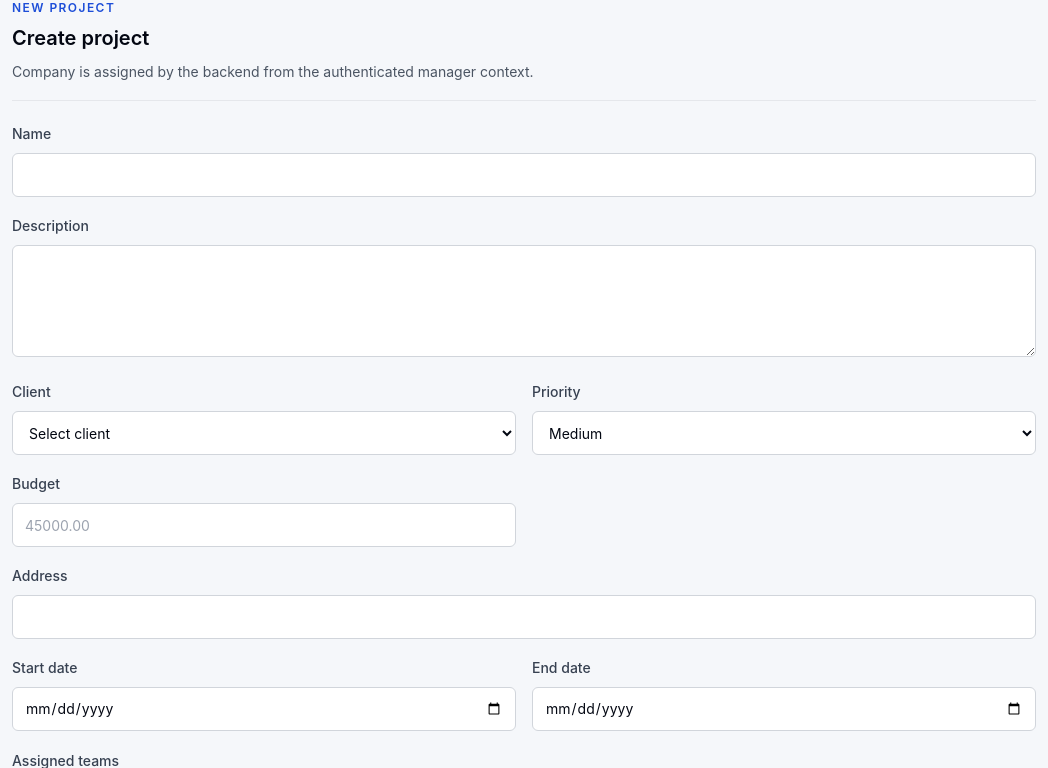
Scenario: ProjectForm › validates end date against start date according to current behavior
Step 1. Type "Lakeview" into the field labelled "Name" → (524, 175), box [12, 153, 1036, 197]
Step 2. Type "Kitchen work" into the text box labelled "Description" → (524, 301), box [12, 245, 1036, 357]
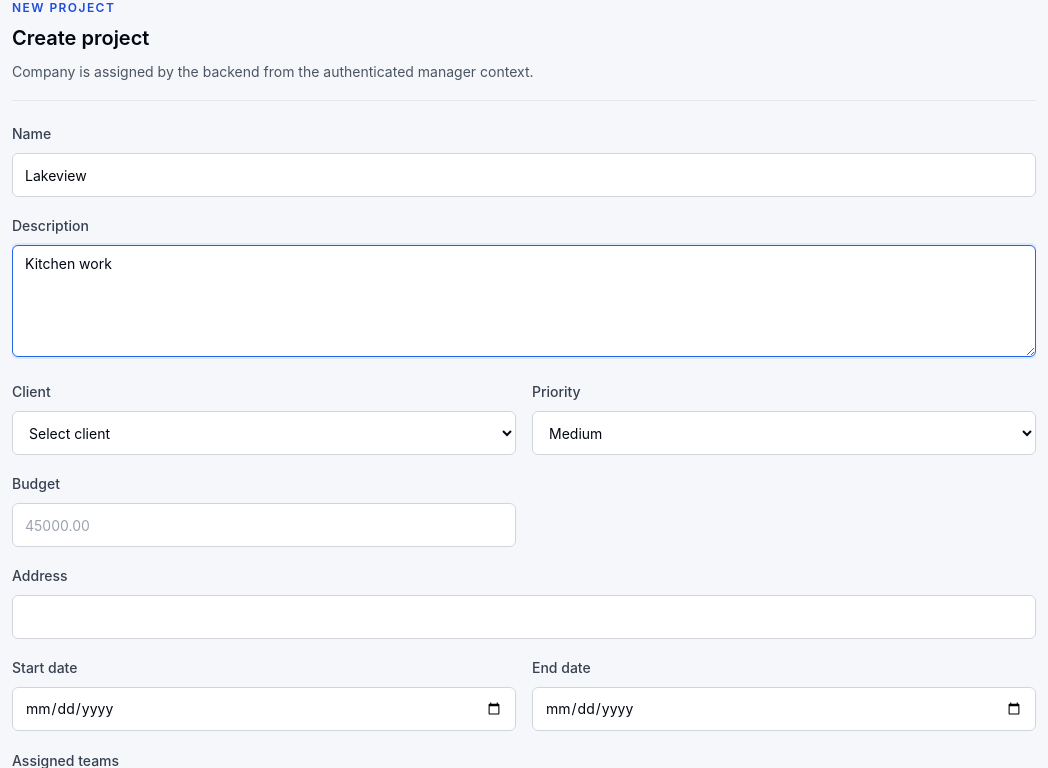
Step 3. Select "client_one #100" in the dropdown labelled "Client" → (264, 433), box [12, 411, 516, 455]
(page scrolled)
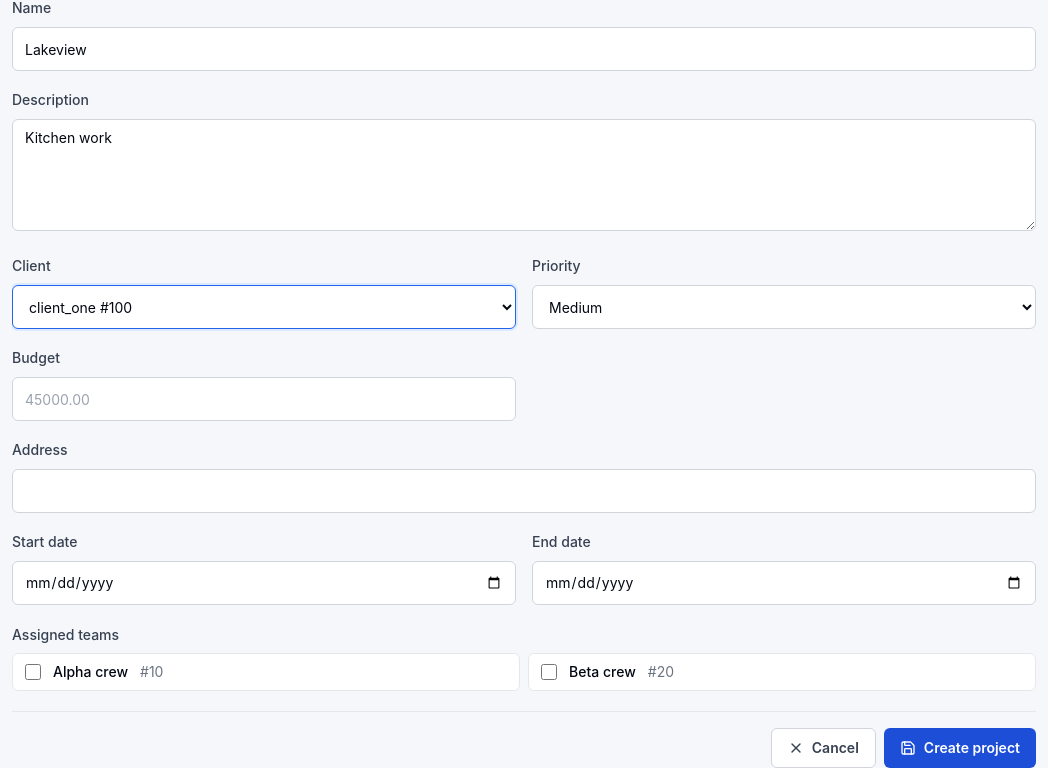
Step 4. Click the checkbox labelled "Alpha crew #10" → (33, 672), box [25, 664, 41, 680]
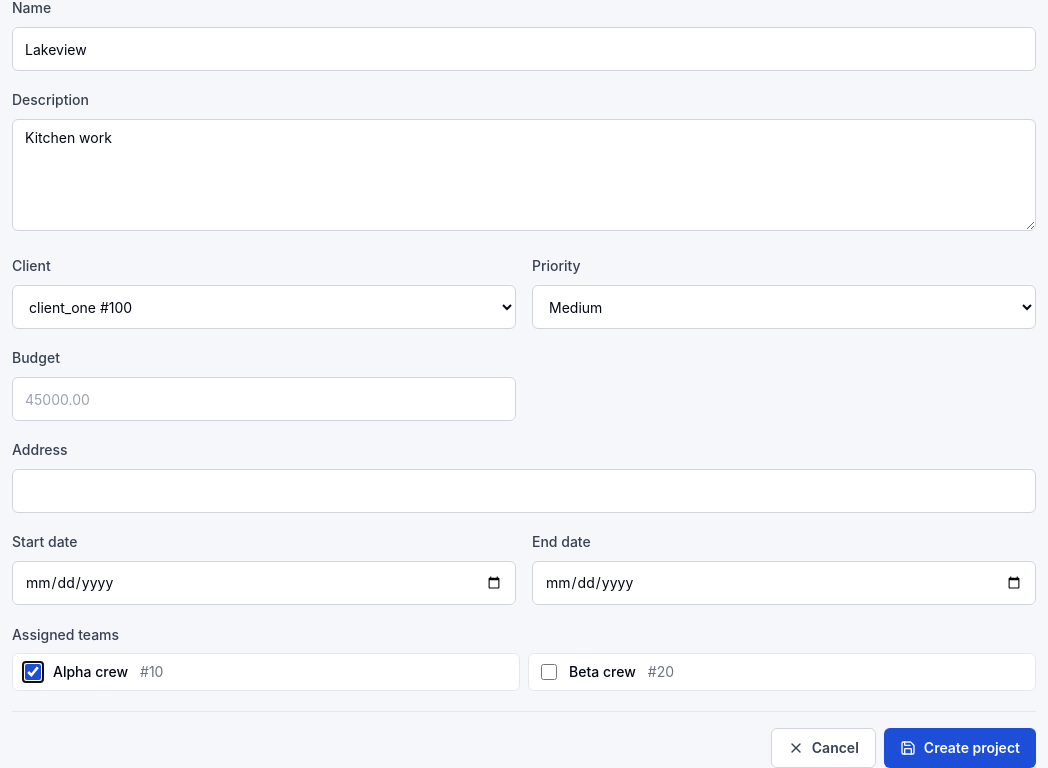
Step 5. Type "123 Lake Street" into the field labelled "Address" → (524, 491), box [12, 469, 1036, 513]
Step 6. Type "2026-06-18" into the date field labelled "Start date" → (264, 583), box [12, 561, 516, 605]
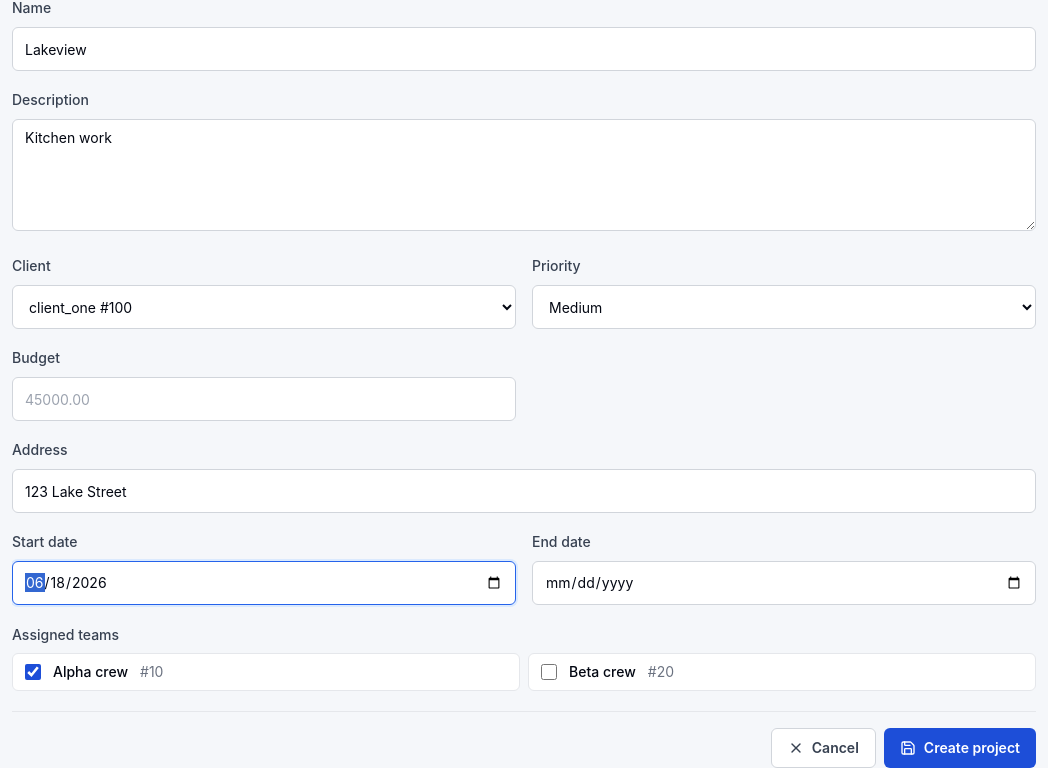
Step 7. Type "2026-06-17" into the date field labelled "End date" → (784, 583), box [532, 561, 1036, 605]
(page scrolled)
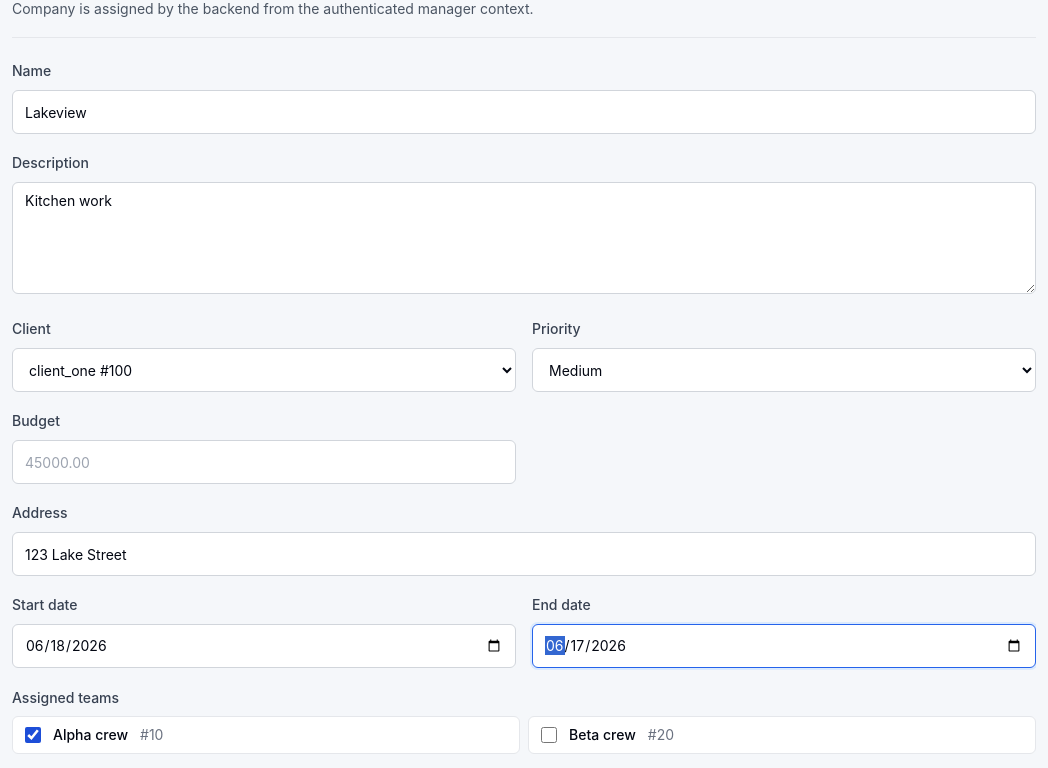
Step 8. Submit the form "Create project"
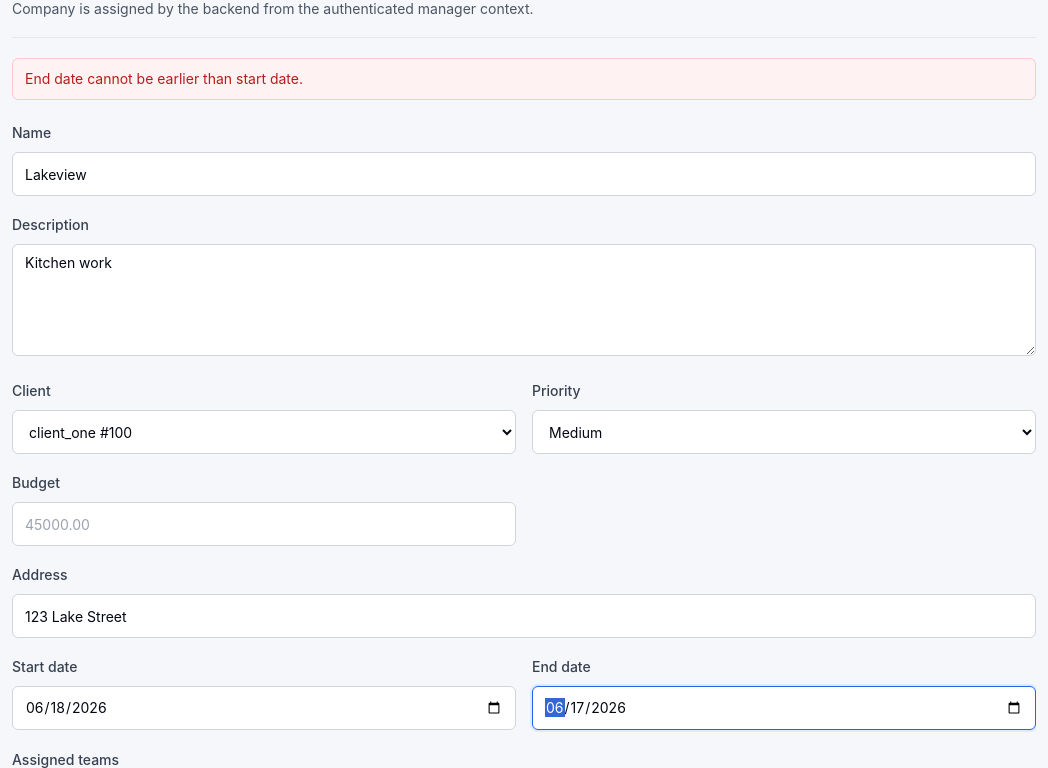
Result: the text "End date cannot be earlier than start date." is shown at [12, 58, 1036, 100]
